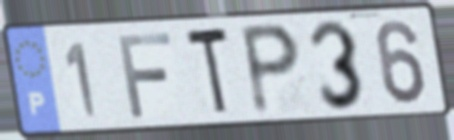1: (63, 39, 99, 119)
3: (308, 18, 367, 114)
6: (372, 17, 428, 107)
F: (115, 29, 176, 120)
P: (237, 20, 304, 118)
T: (182, 23, 232, 120)
